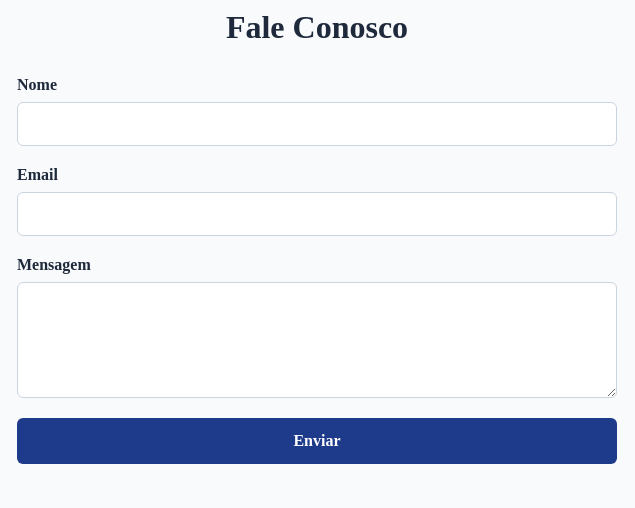
FormContato Component › Cenário 2 — displays email validation error when email is invalid (no @)
Fill valid name, invalid email, valid message
In the field labelled "Nome": (317, 124) [17, 102, 617, 146], type "Kauã Thierry"
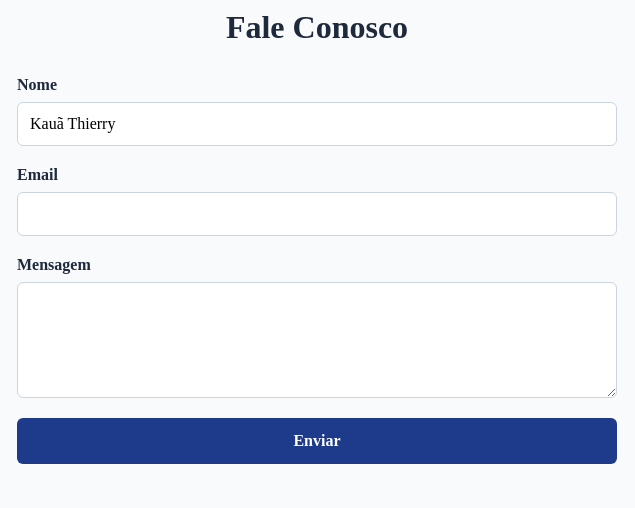
In the field labelled "Email": (317, 214) [17, 192, 617, 236], type "kauathierry.com"
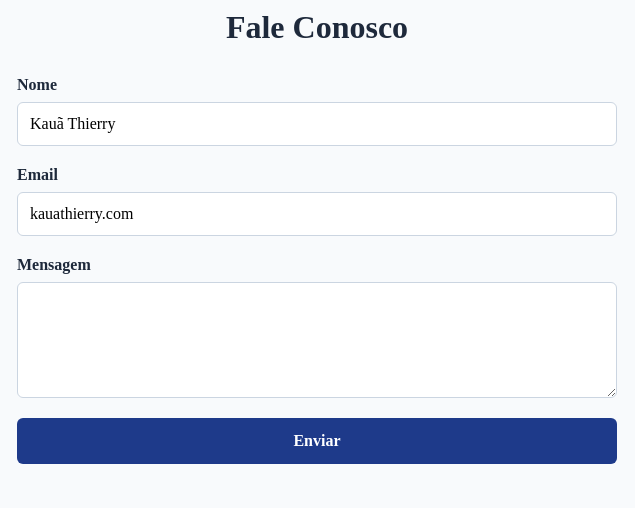
In the text box labelled "Mensagem": (317, 340) [17, 282, 617, 398], type "Esta é uma mensagem válida de contato."
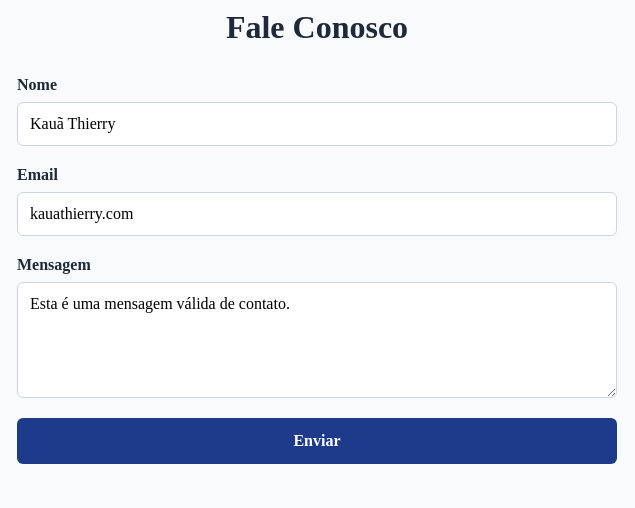
Click the button "Enviar": (317, 441) [17, 418, 617, 464]
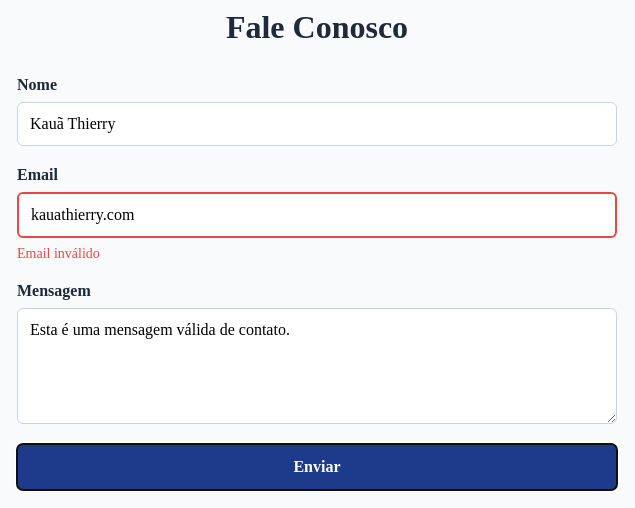
Expected: the text "Email inválido" is shown, [17, 246, 100, 261]
